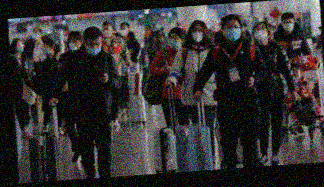with_mask: (224, 23, 242, 43), (85, 41, 102, 56), (253, 25, 268, 42), (166, 34, 180, 50), (191, 27, 204, 44), (282, 20, 295, 32), (67, 39, 79, 51), (101, 25, 111, 39), (30, 30, 39, 41), (42, 45, 51, 56), (16, 42, 24, 54), (119, 26, 127, 36)
without_mask: (291, 68, 301, 81)
